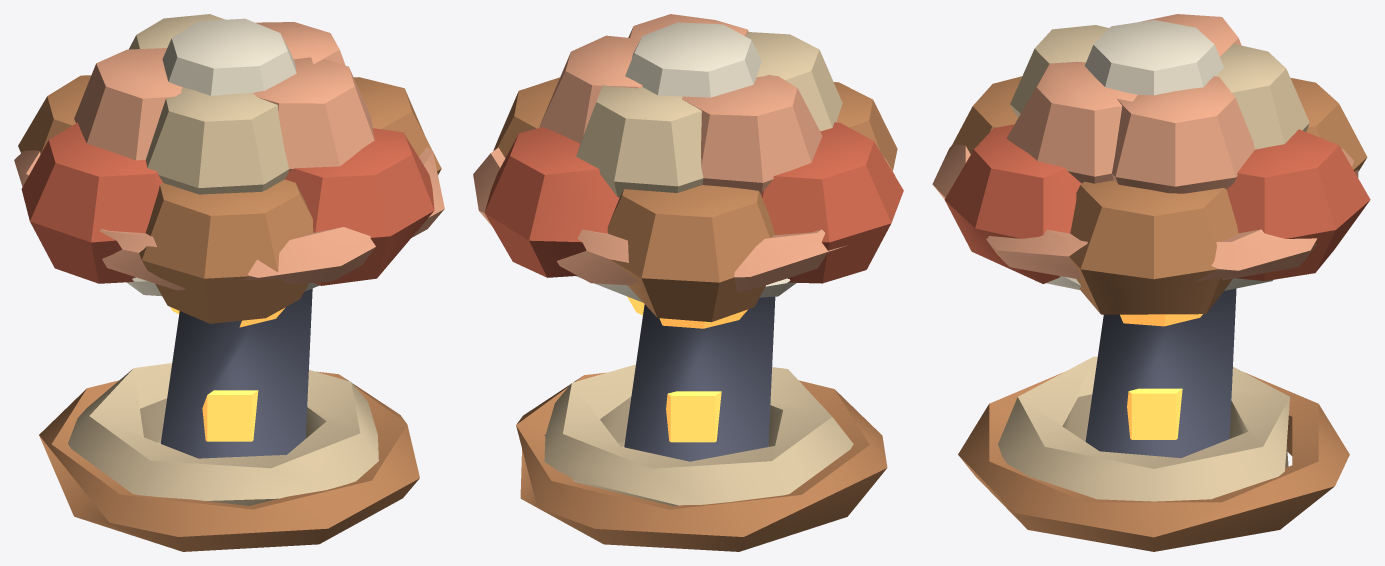
The model's file is mushroom_cloud.glb.
3 views of the same model, side by side, from view 1: azimuth 30°, elevation 25°; view 2: azimuth 150°, elevation 25°; view 3: azimuth 270°, elevation 25° (orthographic).
Visible parts, largest first — view 1: mushroom_cloud; view 2: mushroom_cloud; view 3: mushroom_cloud.
Part boxes in pixels (x1,y1,x2,y2): mushroom_cloud: (14, 14, 444, 551); mushroom_cloud: (473, 14, 903, 551); mushroom_cloud: (932, 14, 1370, 551).
Size of the model in its own units: 1.06 by 1.12 by 1.03.
Materials: 1 (1 with a texture image).
